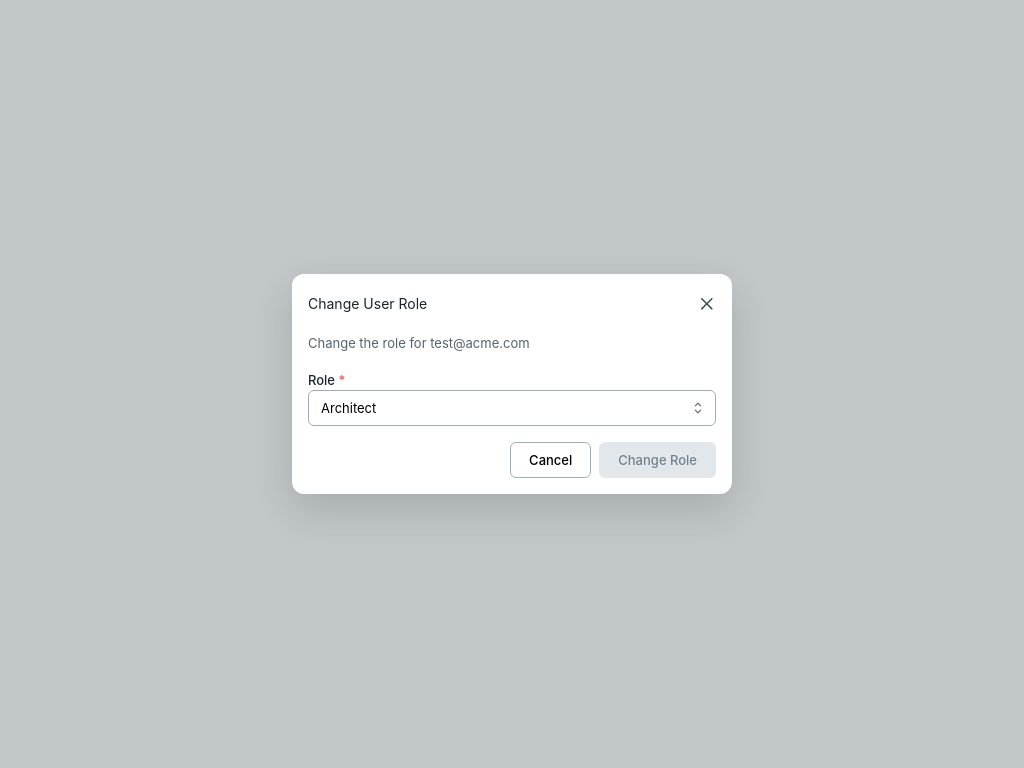
Test: ChangeRoleModal › enables submit button when role has changed
Select "Admin" in the dropdown with test id "change-role-select" at (512, 408), box top-left (308, 390), bottom-right (716, 426)
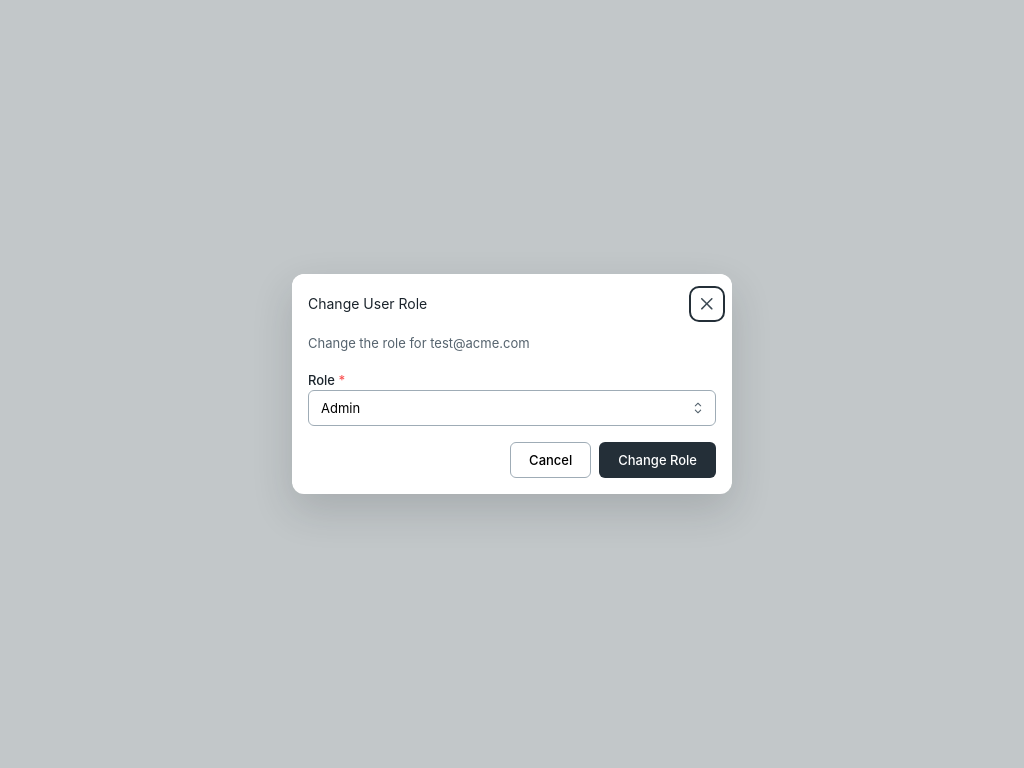
Check: the button with test id "change-role-submit-btn" is enabled, box top-left (599, 442), bottom-right (716, 478)
